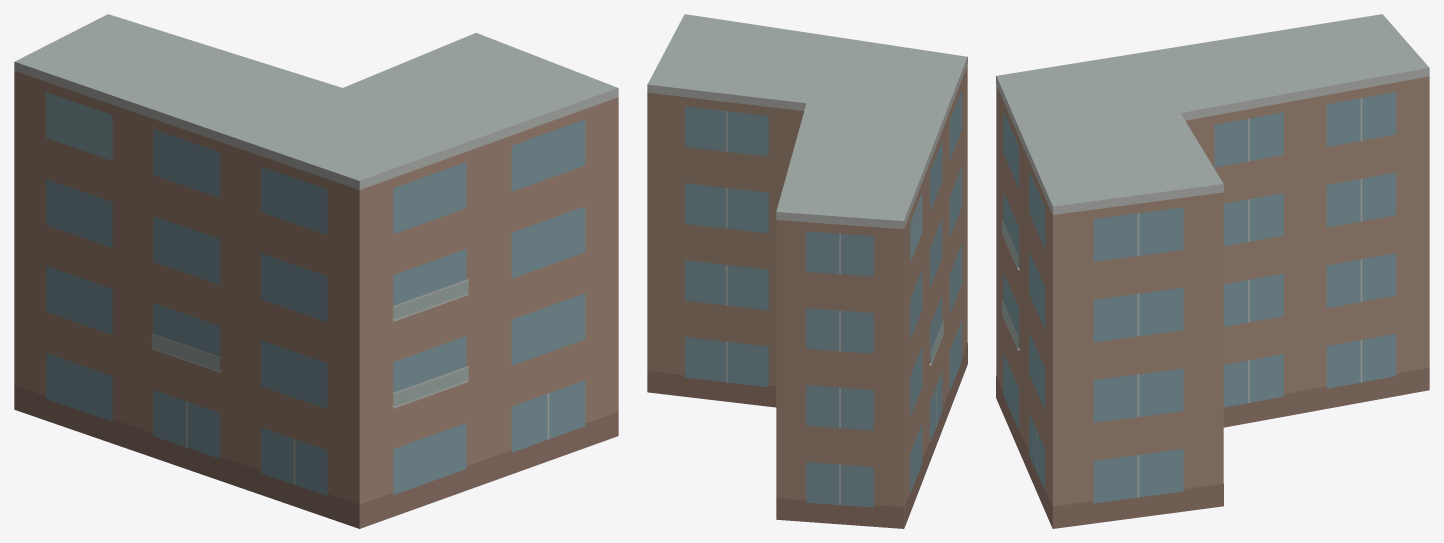
Rendered from survey-upis-32498594.glb.
The picture shows the model from 3 angles, left to right: view 1: azimuth 30°, elevation 25°; view 2: azimuth 150°, elevation 25°; view 3: azimuth 270°, elevation 25°; orthographic projection. The views are drawn at different scales.
Parts seen in each view (by area): view 1: survey-upis-32498594.tmp; view 2: survey-upis-32498594.tmp; view 3: survey-upis-32498594.tmp.
Part boxes in pixels (<box>): survey-upis-32498594.tmp: <box>14,14,618,528</box>; survey-upis-32498594.tmp: <box>647,14,967,528</box>; survey-upis-32498594.tmp: <box>996,14,1429,528</box>.
Bounding box in the file's own units: 11.93 × 9.3 × 11.35.
